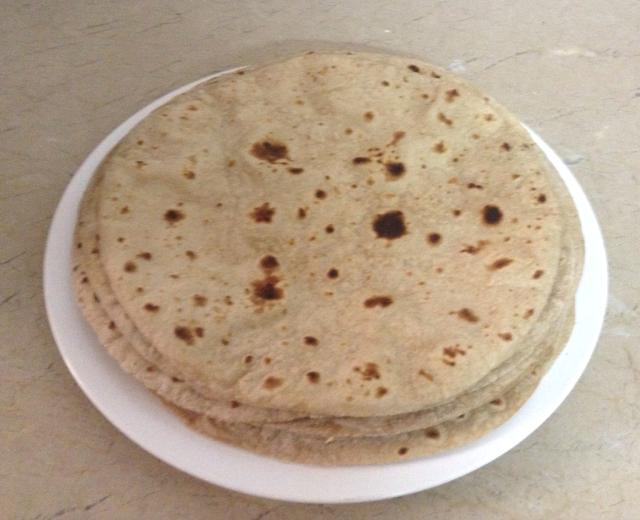chapati: (72, 53, 582, 463)
